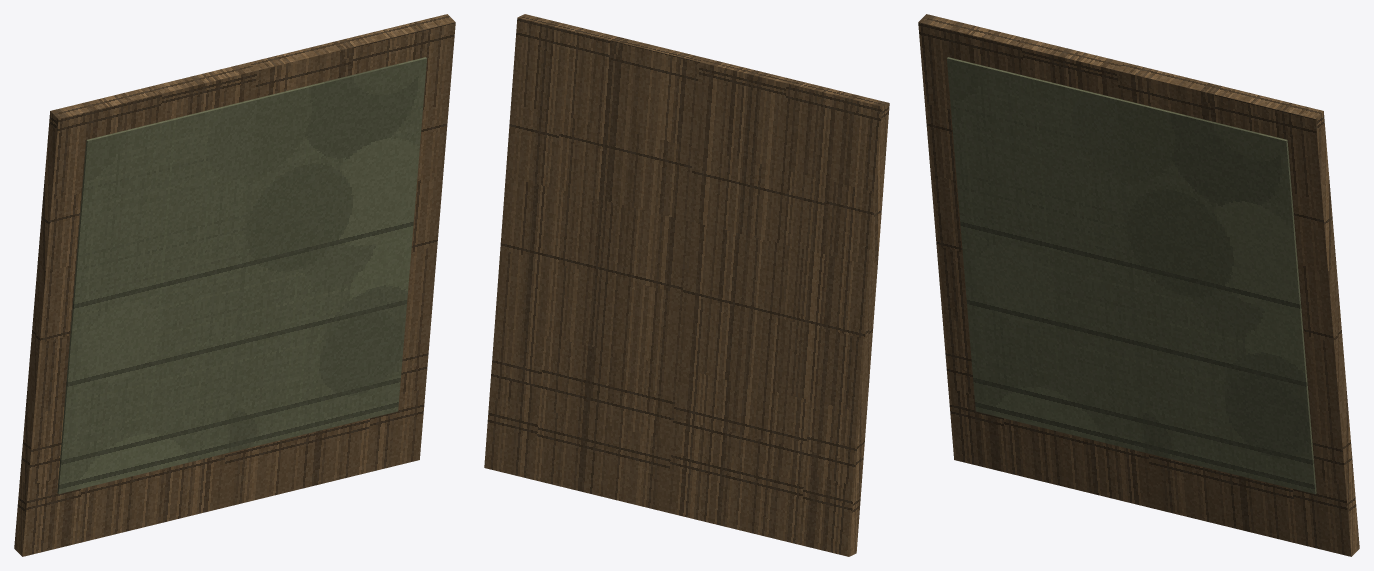
Rendered from fb_map_board.glb.
3 renders of one model, left to right at view 1: azimuth 30°, elevation 25°; view 2: azimuth 150°, elevation 25°; view 3: azimuth 330°, elevation 25°, orthographic. The views are drawn at different scales.
Visible parts, largest first — view 1: fb_map_board; view 2: fb_map_board; view 3: fb_map_board.
Boxes of the visible parts, bbox=[...] form: fb_map_board: bbox=[14, 14, 455, 556]; fb_map_board: bbox=[484, 14, 889, 556]; fb_map_board: bbox=[918, 14, 1359, 556].
Size of what is drawn, in the model's own units: 1.1 by 1.23 by 0.2137.
2 materials, 2 textured.
